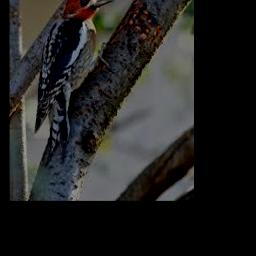Woodpecker: (35, 0, 115, 165)
